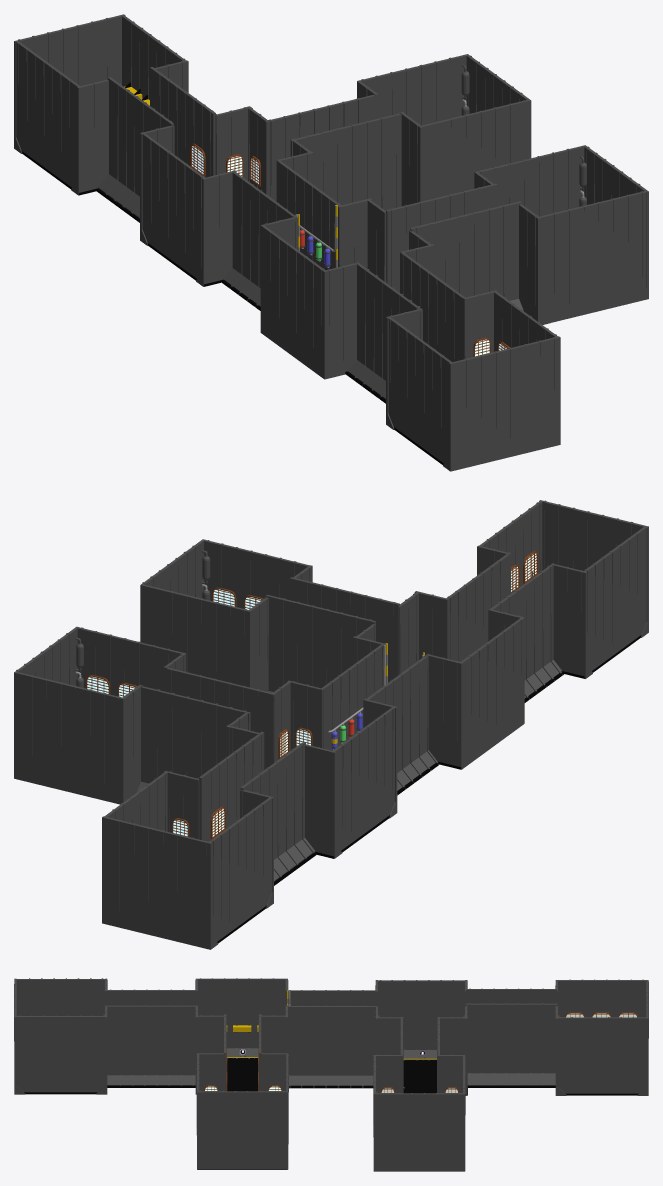
The model's file is Room6.fbx.
3 renders of one model, top to bottom at view 1: azimuth 30°, elevation 25°; view 2: azimuth 150°, elevation 25°; view 3: azimuth 270°, elevation 25°, orthographic. The views are drawn at different scales.
Visible parts, largest first — view 1: Room6; view 2: Room6; view 3: Room6.
Boxes of the visible parts, box(x1,y1,x2,y2) form: Room6: box(14, 14, 648, 471); Room6: box(14, 500, 648, 949); Room6: box(14, 978, 648, 1171).
Bounding box in the file's own units: 36040 × 11569 × 83041.
